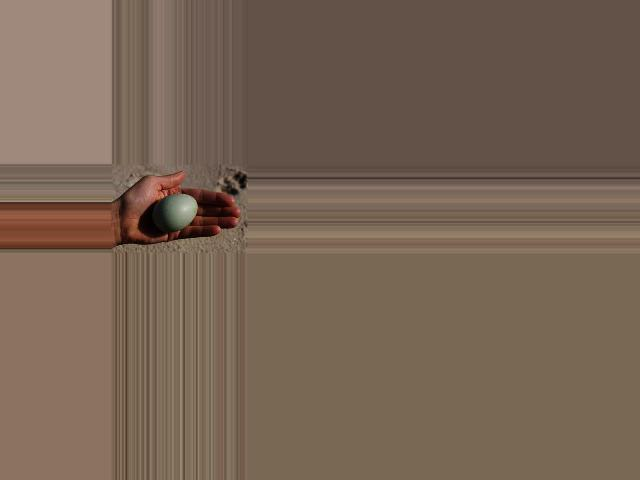egg: (153, 194, 197, 232)
